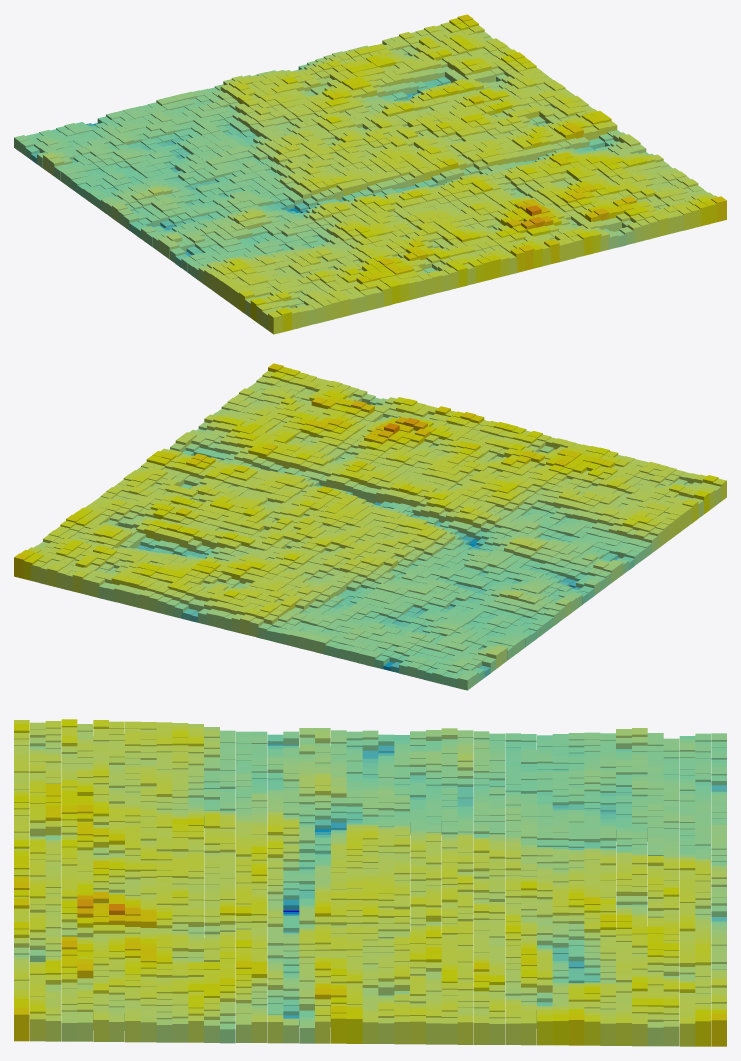
The model's file is population.glb.
3 views of the same model, one above another, from view 1: azimuth 30°, elevation 25°; view 2: azimuth 150°, elevation 25°; view 3: azimuth 270°, elevation 25° (orthographic). The views are drawn at different scales.
Parts seen in each view (by area): view 1: population; view 2: population; view 3: population.
Part boxes in pixels (<box>): population: <box>14,14,726,334</box>; population: <box>14,363,726,690</box>; population: <box>14,719,726,1046</box>.
Size of the model in its own units: 4556 by 278 by 4517.
